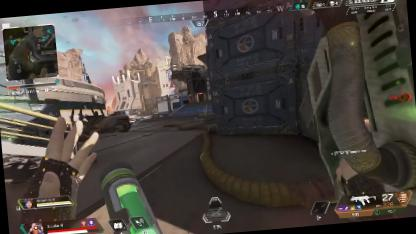Target: (203, 104, 209, 115)
